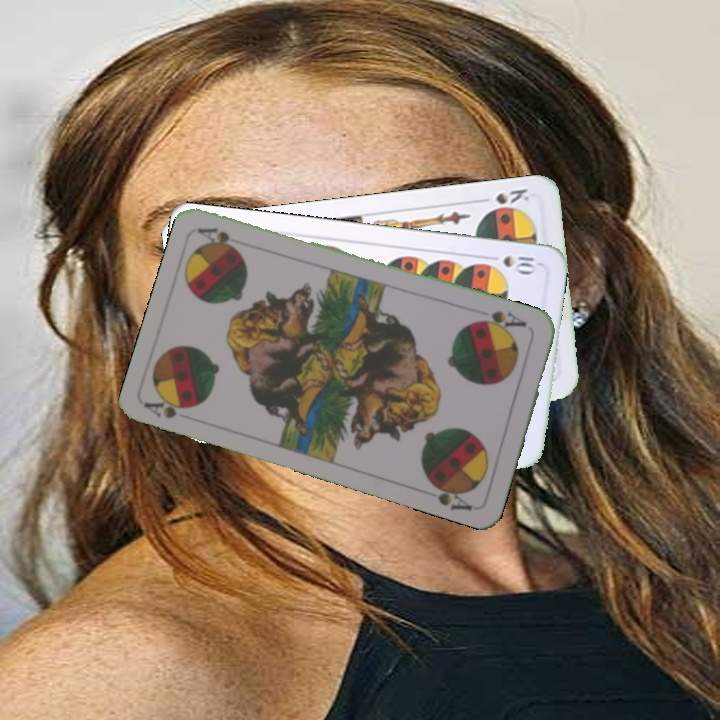S10: (482, 251, 541, 276)
SA: (473, 306, 533, 335), (142, 391, 198, 421)
SK: (474, 184, 533, 207)
